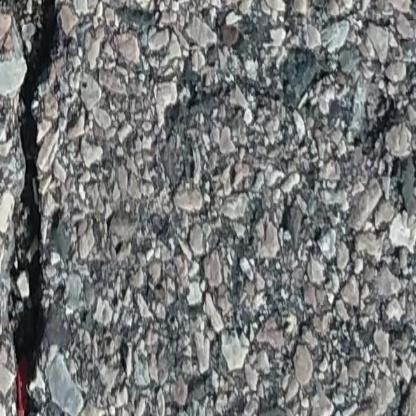Cracks: (0, 0, 66, 416)
